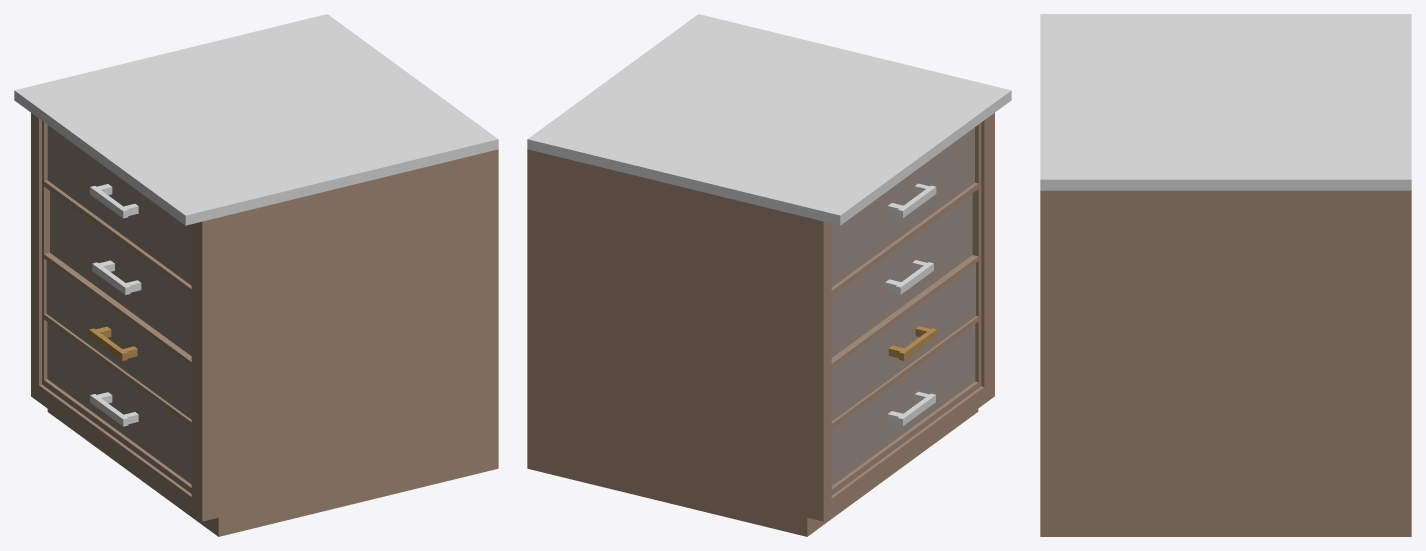
Rendered from comptoir_millieu_01.fbx.
3 views of the same model, side by side, from view 1: azimuth 30°, elevation 25°; view 2: azimuth 150°, elevation 25°; view 3: azimuth 270°, elevation 25° (orthographic). The views are drawn at different scales.
Parts seen in each view (by area): view 1: pasted__comptoir_millieu_pasted__comptoir_pasted__comptoir; view 2: pasted__comptoir_millieu_pasted__comptoir_pasted__comptoir; view 3: pasted__comptoir_millieu_pasted__comptoir_pasted__comptoir.
Boxes of the visible parts, box(x1,y1,x2,y2) form: pasted__comptoir_millieu_pasted__comptoir_pasted__comptoir: box(14, 14, 498, 536); pasted__comptoir_millieu_pasted__comptoir_pasted__comptoir: box(527, 14, 1011, 536); pasted__comptoir_millieu_pasted__comptoir_pasted__comptoir: box(1040, 14, 1411, 536).
Size of the model in its own units: 4.51 by 4.54 by 4.27.
